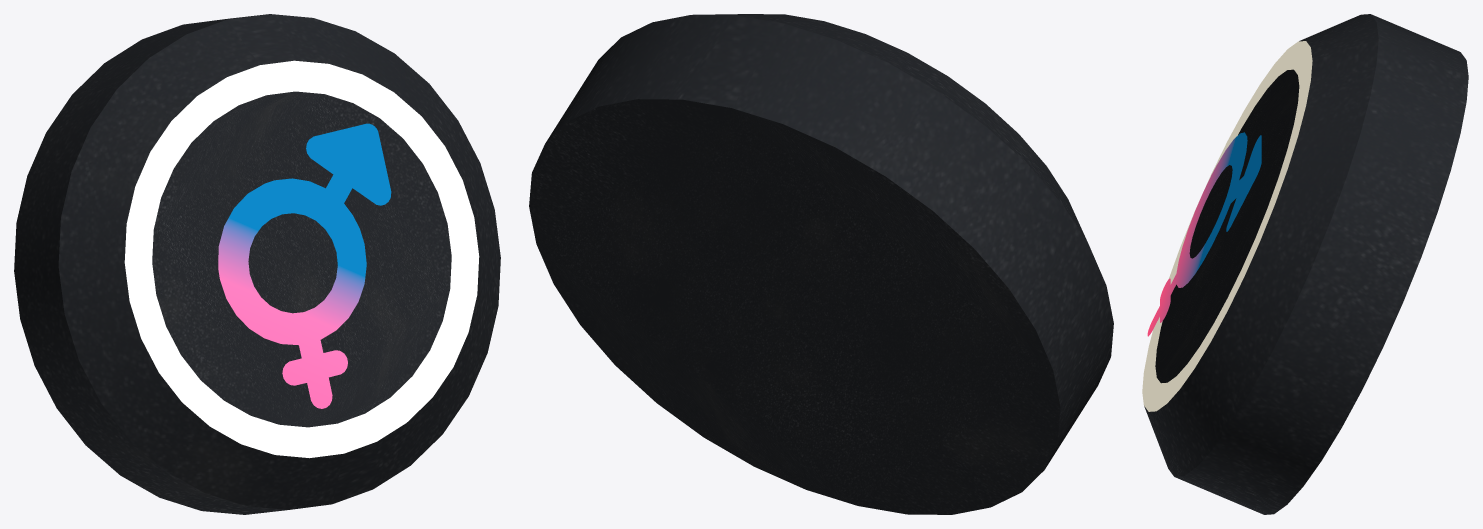
Rendered from btnGenderSwap.gltf.
The picture shows the model from 3 angles, left to right: view 1: azimuth 30°, elevation 25°; view 2: azimuth 150°, elevation 25°; view 3: azimuth 270°, elevation 25°; orthographic projection. The views are drawn at different scales.
Visible parts, largest first — view 1: btn.Copy.001, mars-and-venus.svg; view 2: btn.Copy.001; view 3: btn.Copy.001, mars-and-venus.svg.
Part boxes in pixels (<box>): btn.Copy.001: <box>14,14,500,514</box>; mars-and-venus.svg: <box>218,123,391,408</box>; btn.Copy.001: <box>529,14,1113,514</box>; btn.Copy.001: <box>1142,14,1468,514</box>; mars-and-venus.svg: <box>1147,132,1261,336</box>.
Size of what is drawn, in the model's own units: 0.2733 by 0.2705 by 0.1774.
3 materials, 2 textured.
